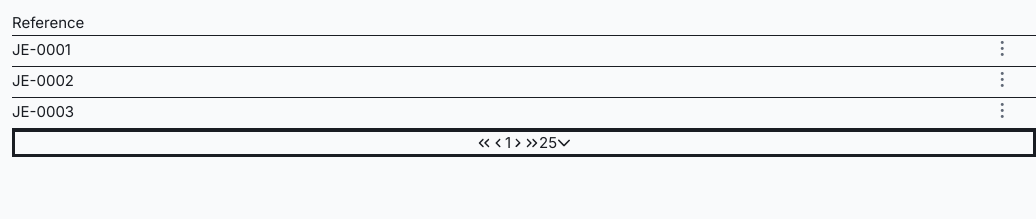
Test: DataTable › row actions kebab: renders only actions where visible(row) is true
Click the button with test id "data-table-row-kebab" in the row of "JE-0001" at (1002, 50), box top-left (991, 36), bottom-right (1014, 66)
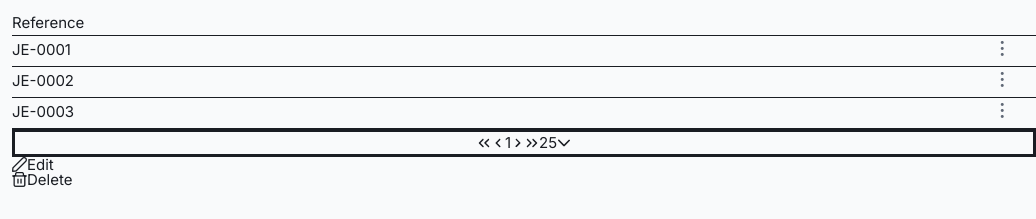
Expected: the text "Reverse" is not shown
Now the text "Edit" is shown, box top-left (27, 157), bottom-right (54, 172)
Now the text "Delete" is shown, box top-left (27, 172), bottom-right (72, 187)
# Click the posted-row kebab.
Click the button with test id "data-table-row-kebab" in the row of "JE-0002" at (1002, 82), box top-left (991, 66), bottom-right (1014, 96)
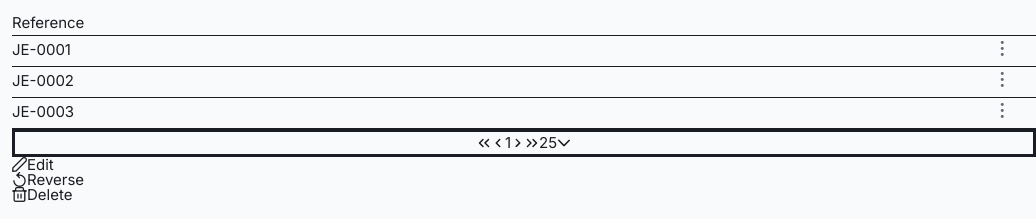
Now the text "Reverse" is shown, box top-left (27, 172), bottom-right (84, 187)
